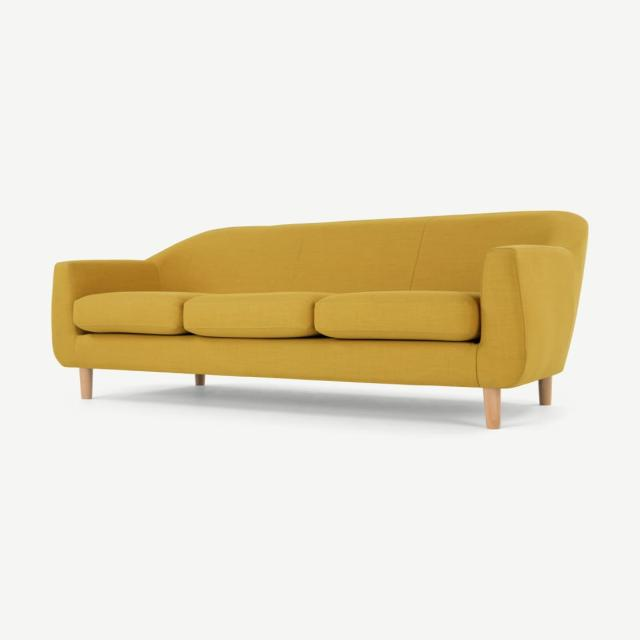back_cushion: (150, 211, 587, 293)
left_arm: (476, 245, 576, 388)
legs: (483, 388, 501, 429), (538, 377, 552, 405), (79, 369, 92, 399), (195, 374, 206, 386)
right_arm: (51, 260, 157, 366)
seat_cushion: (72, 291, 481, 385)
stallion-sofa: (0, 0, 639, 639)
